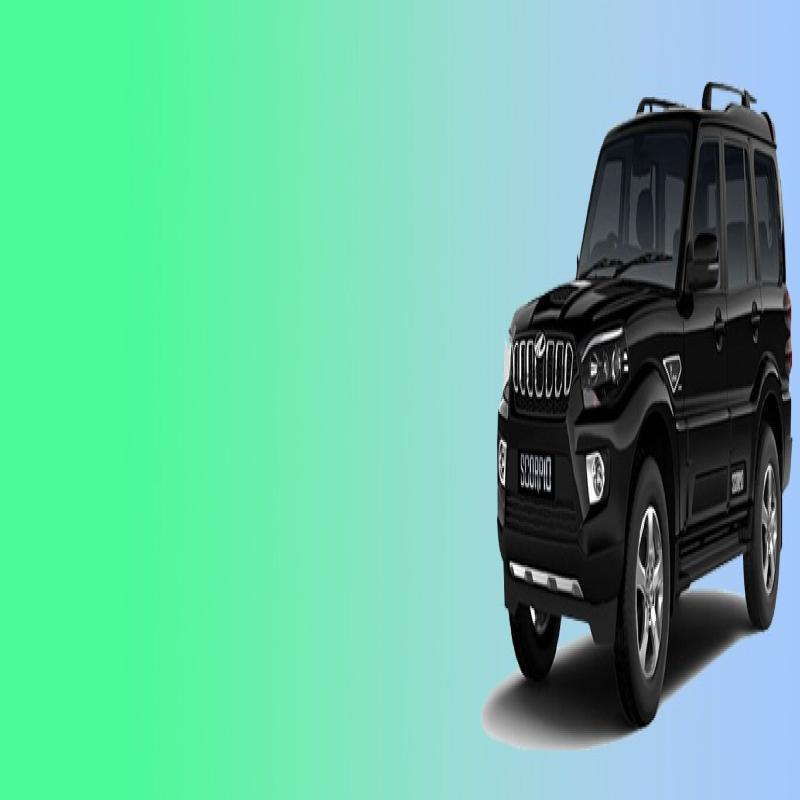car: (489, 44, 784, 745)
